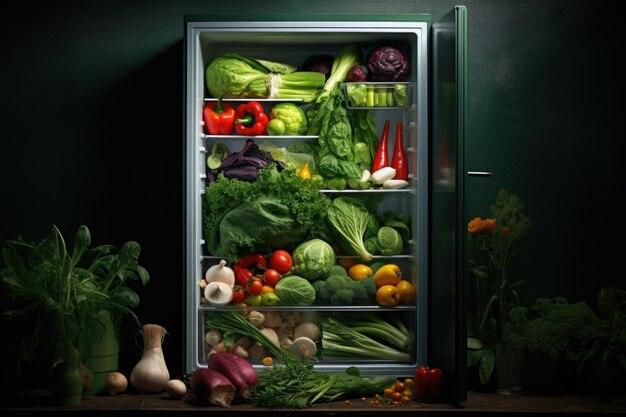bell pepper: (201, 101, 271, 137), (409, 360, 456, 403)
cabbage: (293, 236, 327, 301)
tomato: (221, 246, 288, 294)
